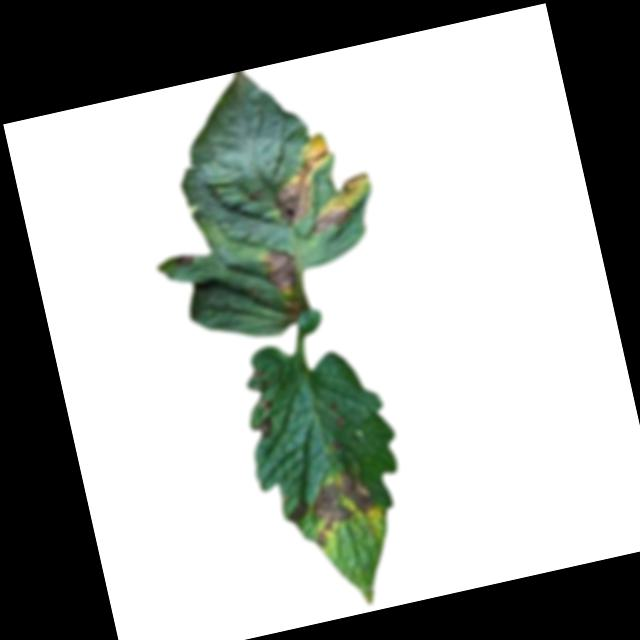Early_blight: (259, 129, 343, 228), (301, 464, 384, 549), (258, 244, 302, 293), (325, 170, 373, 207), (312, 202, 351, 231), (284, 496, 312, 525), (254, 415, 275, 440), (169, 251, 195, 268), (331, 413, 349, 431), (328, 436, 344, 453)
